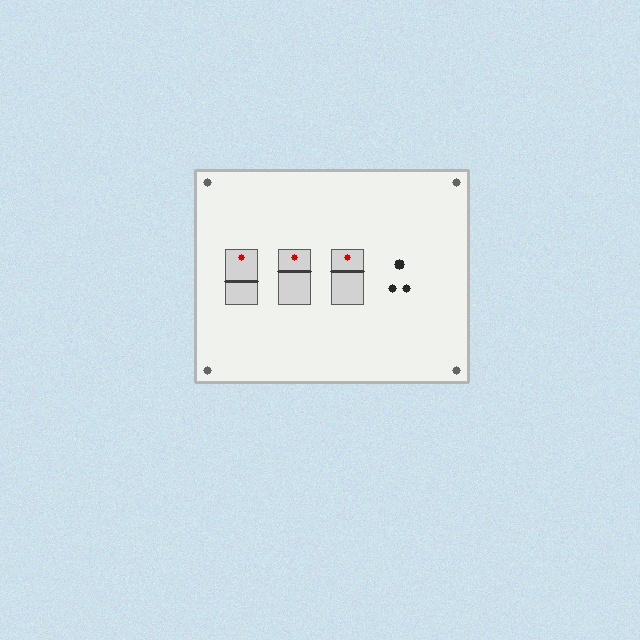switchboard: (195, 170, 468, 382)
